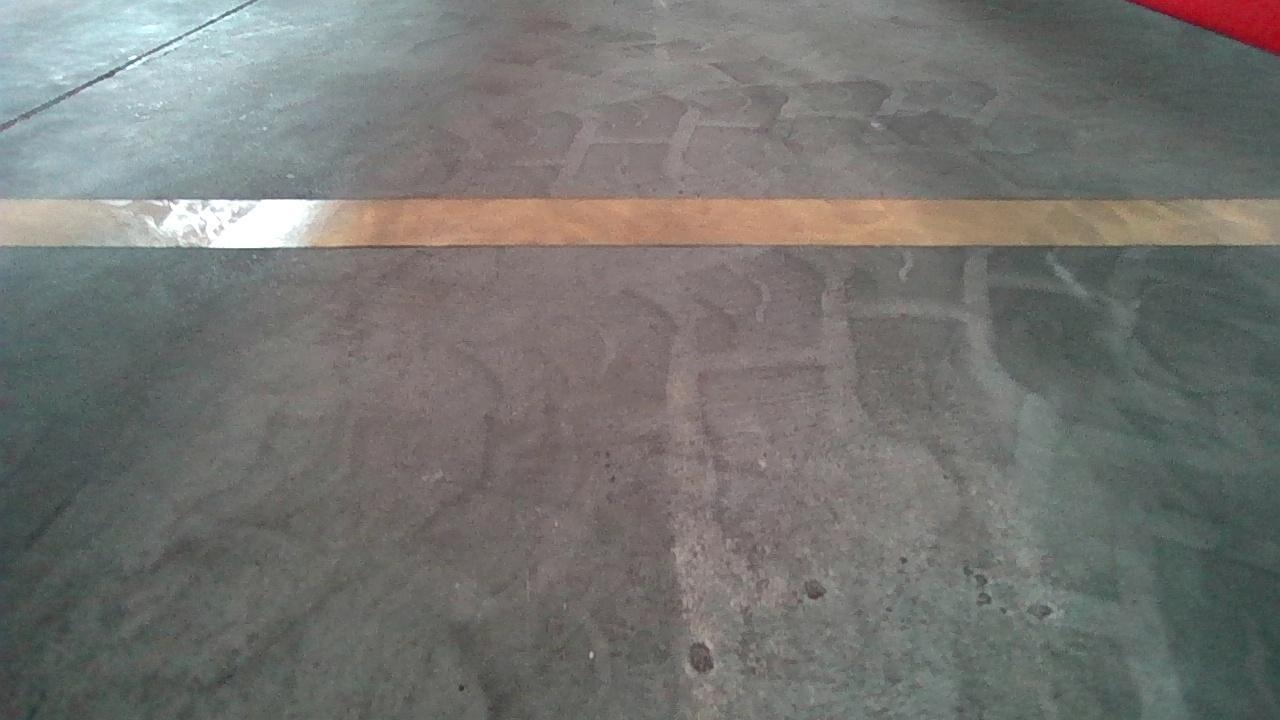yellow_line: (0, 187, 1278, 253)
